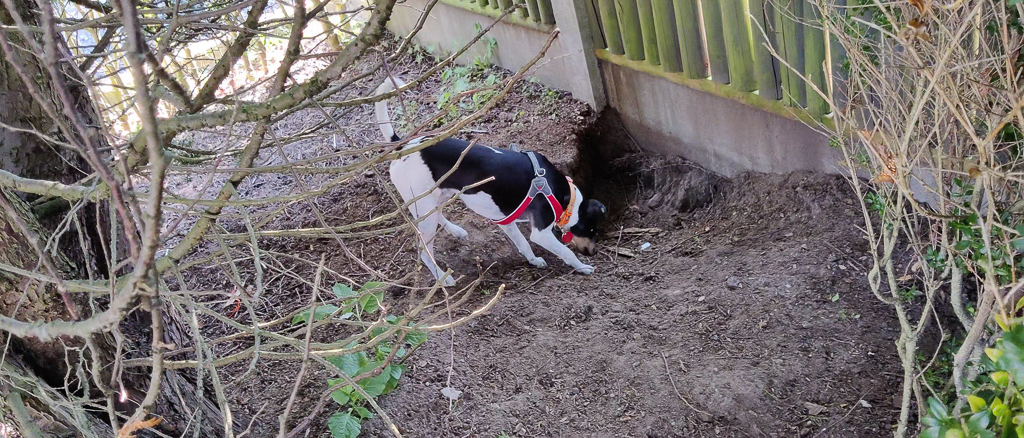Dog: (367, 64, 626, 303)
